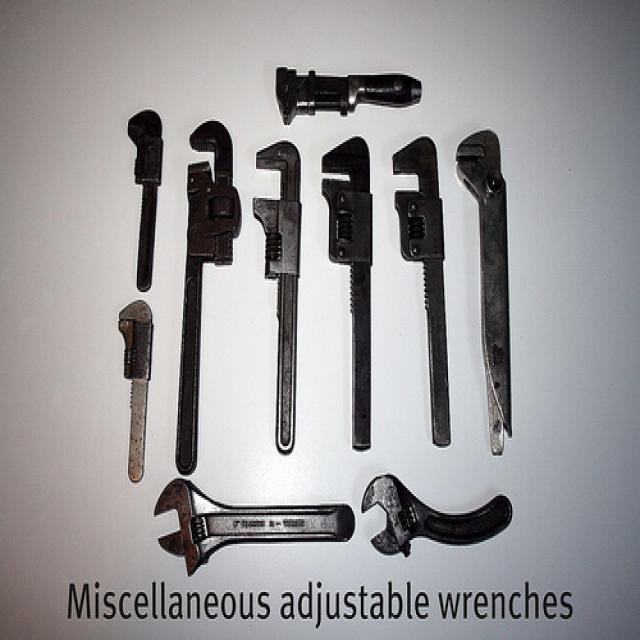wrench: (174, 116, 241, 475), (155, 472, 358, 580), (453, 120, 516, 458), (316, 132, 379, 458), (391, 130, 453, 452), (248, 133, 308, 460), (359, 468, 516, 562), (272, 61, 428, 129), (122, 102, 165, 296), (112, 293, 154, 487)
